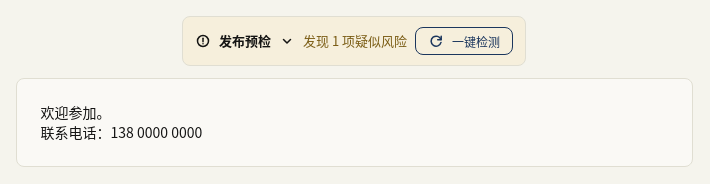
Scenario: 发布预检面板 › 正文改过以后，上次检测的结论不再挂在面板上
This screenshot has width=710, height=184.
Later steps or results of the test are not shown.
Click the button "一键检测".
click(464, 41)  # box [415,27,513,55]
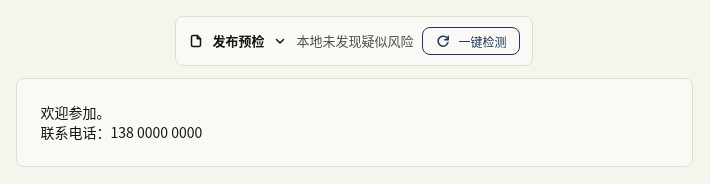
Expected: the message "本地未发现疑似风险" is shown, [296,31,414,51]
